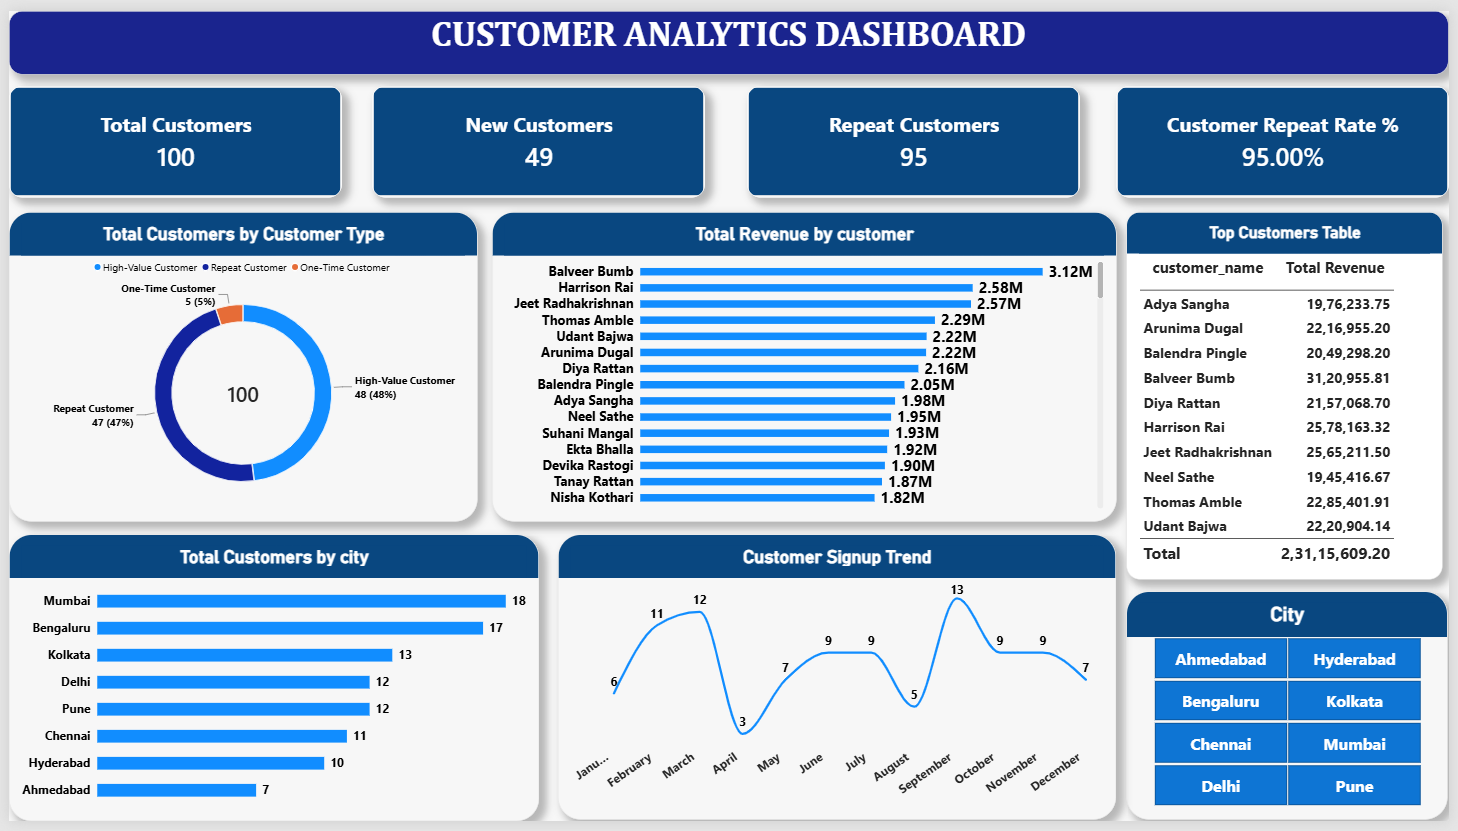

The dashboard page shown, as its layout file describes it:
{"tool":"powerbi","page":{"name":"Customer Analytics Dashboard","canvas":[1920,1080],"ordinal":1},"visuals":[{"type":"cardVisual","fields":{"Data":["customers.Total Customers"]},"box":[0,99.2,444.3,148.8],"z":0},{"type":"cardVisual","fields":{"Data":["customers.New Customers"]},"box":[483.5,99.2,444.3,148.8],"z":1000},{"type":"cardVisual","fields":{"Data":["customers.Repeat Customers"]},"box":[983.6,99.2,444.3,148.8],"z":2000},{"type":"clusteredBarChart","title":"Total Revenue by customer","fields":{"Category":["customers.customer_name"],"Y":["order_items.Total Revenue"]},"box":[643.6,268.2,832.5,412.8],"z":3000},{"type":"clusteredBarChart","fields":{"Category":["customers.city"],"Y":["customers.Total Customers"]},"box":[0,698.4,706.7,382.3],"z":4000},{"type":"lineChart","title":"Customer Signup Trend","fields":{"Category":["customers.signup_date.Variation.Date Hierarchy.Month","customers.signup_date.Variation.Date Hierarchy.Day"],"Y":["customers.Total Customers"]},"box":[731.5,698.4,743.9,380.2],"z":5000},{"type":"tableEx","title":"Top 10 Customers","fields":{"Values":["customers.customer_name","order_items.Total Revenue"]},"box":[1498,268,421.5,489.7],"z":6000},{"type":"donutChart","fields":{"Category":["customers.Customer Type"],"Y":["customers.Total Customers"]},"box":[0,268.6,625,412.8],"z":7000},{"type":"slicer","title":"City","fields":{"Values":["customers.city"]},"box":[1489.9,774.9,427.7,303.8],"z":8000},{"type":"textbox","box":[0,0,1919.7,84.7],"z":9000},{"type":"cardVisual","fields":{"Data":["customers.Customer Repeat Rate %"]},"box":[1475.4,99.2,444.3,148.8],"z":10000}]}

Visuals, with their boxes in screenshot pixels (x1, y1, x2, y2), scaled from the page's 1920x1080 canvas onto the 1458x831 screenshot:
cardVisual - customers.Total Customers: pyautogui.locateOnScreen(0, 76, 337, 191)
cardVisual - customers.New Customers: pyautogui.locateOnScreen(367, 76, 705, 191)
cardVisual - customers.Repeat Customers: pyautogui.locateOnScreen(747, 76, 1084, 191)
"Total Revenue by customer" clusteredBarChart: pyautogui.locateOnScreen(489, 206, 1121, 524)
clusteredBarChart - customers.city x customers.Total Customers: pyautogui.locateOnScreen(0, 537, 537, 830)
"Customer Signup Trend" lineChart: pyautogui.locateOnScreen(555, 537, 1120, 830)
"Top 10 Customers" tableEx: pyautogui.locateOnScreen(1138, 206, 1457, 583)
donutChart - customers.Customer Type x customers.Total Customers: pyautogui.locateOnScreen(0, 207, 475, 524)
"City" slicer: pyautogui.locateOnScreen(1131, 596, 1456, 830)
textbox: pyautogui.locateOnScreen(0, 0, 1457, 65)
cardVisual - customers.Customer Repeat Rate %: pyautogui.locateOnScreen(1120, 76, 1457, 191)
